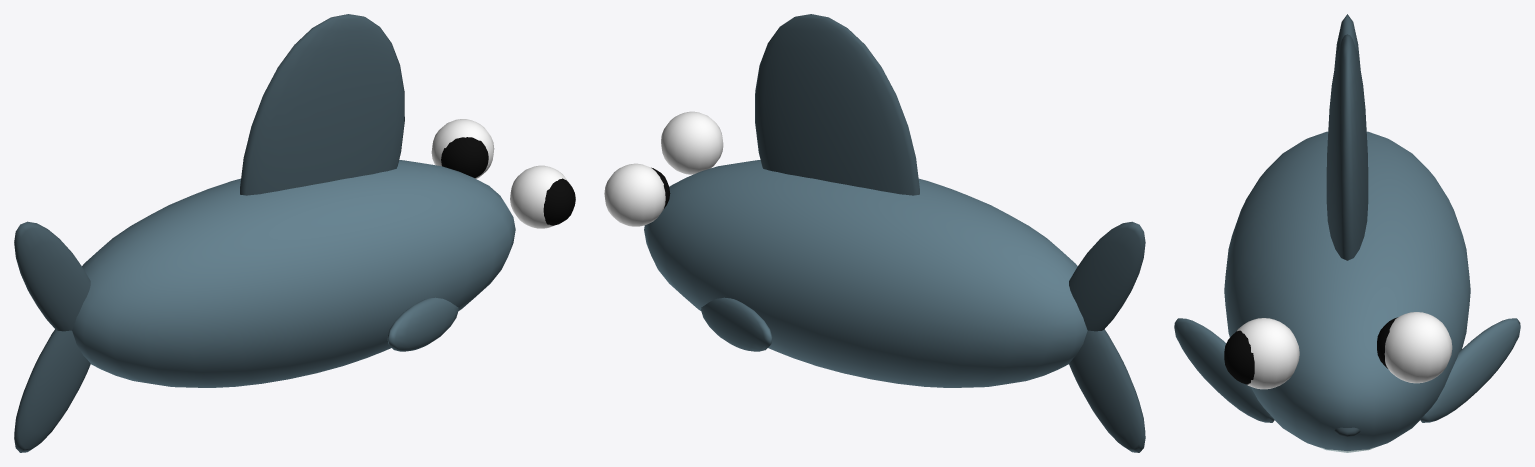
The model's file is hiu.glb.
3 renders of one model, left to right at view 1: azimuth 30°, elevation 25°; view 2: azimuth 150°, elevation 25°; view 3: azimuth 270°, elevation 25°, orthographic. The views are drawn at different scales.
Bounding box in the file's own units: 1.77 × 1.18 × 0.9076.
